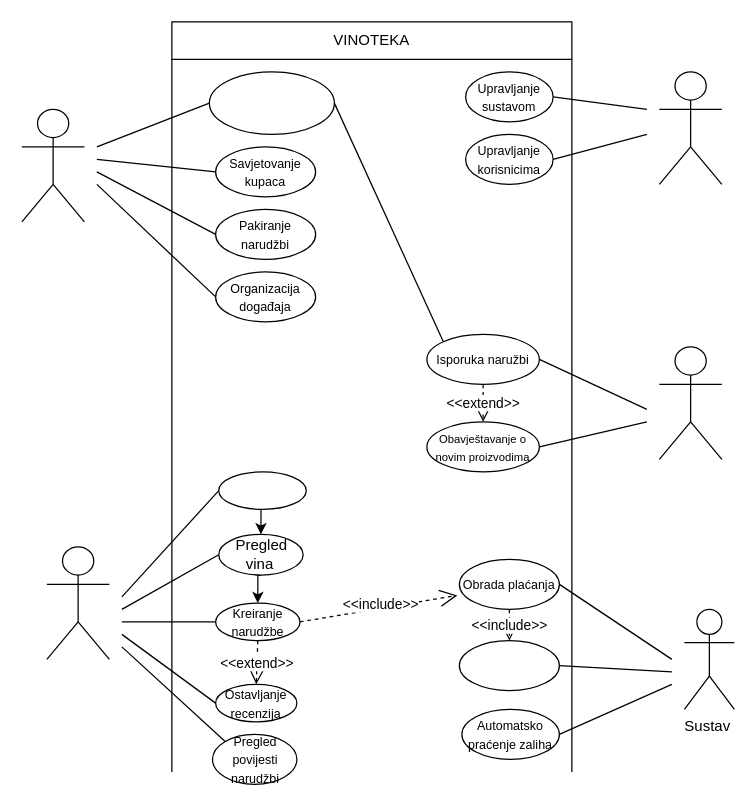
This 756x808 diagram has some shape labels left out. Each missing label, with the centre of its shape:
"Administrator" belongs at [690,127].
"Djelatnik" belongs at [52,165].
"Dobavljač" belongs at [690,402].
"Kupac" belongs at [77,602].
"Preuzima robu i provjerava kvalitetu" belongs at [271,102].
"Prijava" belongs at [262,490].
"Validacija transakcije" belongs at [508,665].
